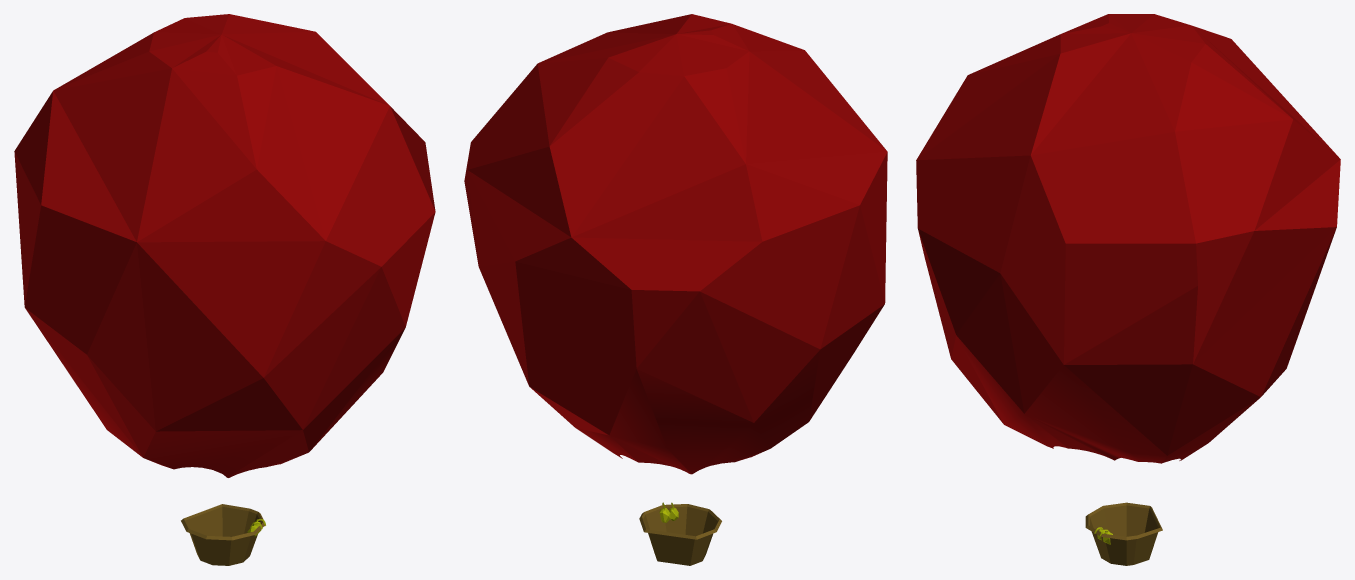
File: Hot Air Balloon.fbx
3 renders of one model, left to right at view 1: azimuth 30°, elevation 25°; view 2: azimuth 150°, elevation 25°; view 3: azimuth 270°, elevation 25°, orthographic.
Visible parts, largest first — view 1: hotairballoon; view 2: hotairballoon; view 3: hotairballoon.
Boxes of the visible parts, left/top/right/bottom form: hotairballoon: left=14, top=14, right=435, bottom=565; hotairballoon: left=464, top=14, right=887, bottom=565; hotairballoon: left=916, top=14, right=1340, bottom=565.
Bounding box in the file's own units: 5.01 × 6.93 × 5.11.
